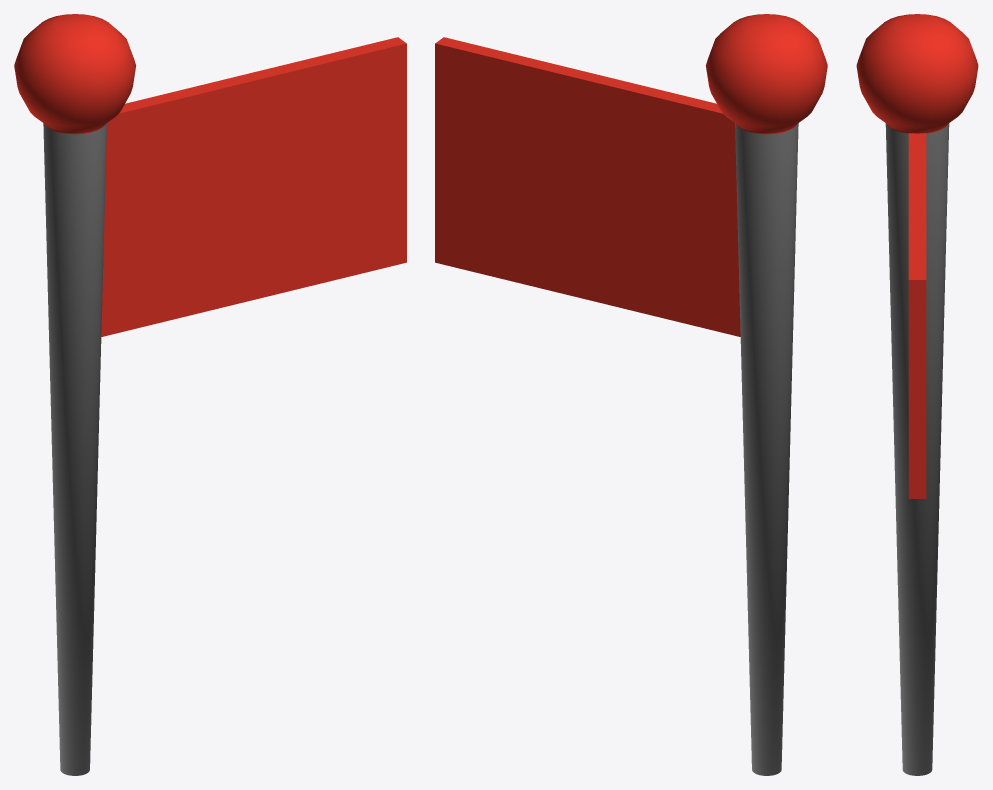
The model's file is enemyFlag.fbx.
3 renders of one model, left to right at view 1: azimuth 30°, elevation 25°; view 2: azimuth 150°, elevation 25°; view 3: azimuth 270°, elevation 25°, orthographic.
Parts seen in each view (by area): view 1: Pin Flag; view 2: Pin Flag; view 3: Pin Flag.
Part boxes in pixels (x1=…): Pin Flag: x1=14, y1=14, x2=406, y2=775; Pin Flag: x1=435, y1=14, x2=827, y2=775; Pin Flag: x1=856, y1=14, x2=978, y2=775.
Size of the model in its own units: 104 by 29.05 by 196.
